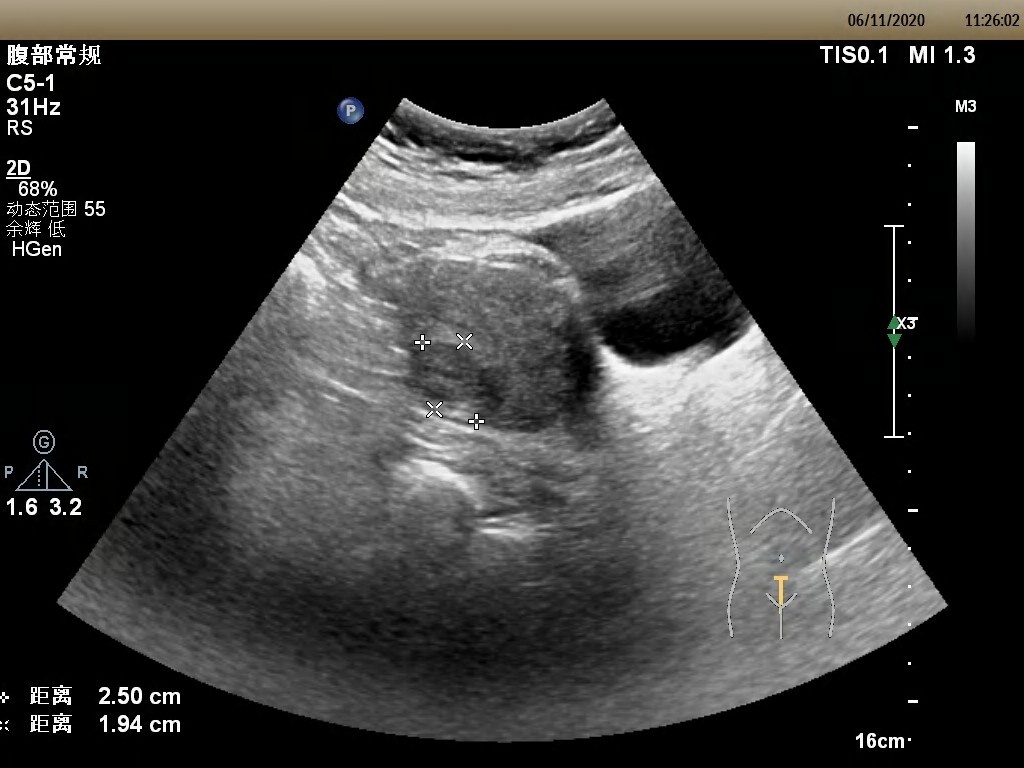肌瘤: (416, 342, 484, 423)
